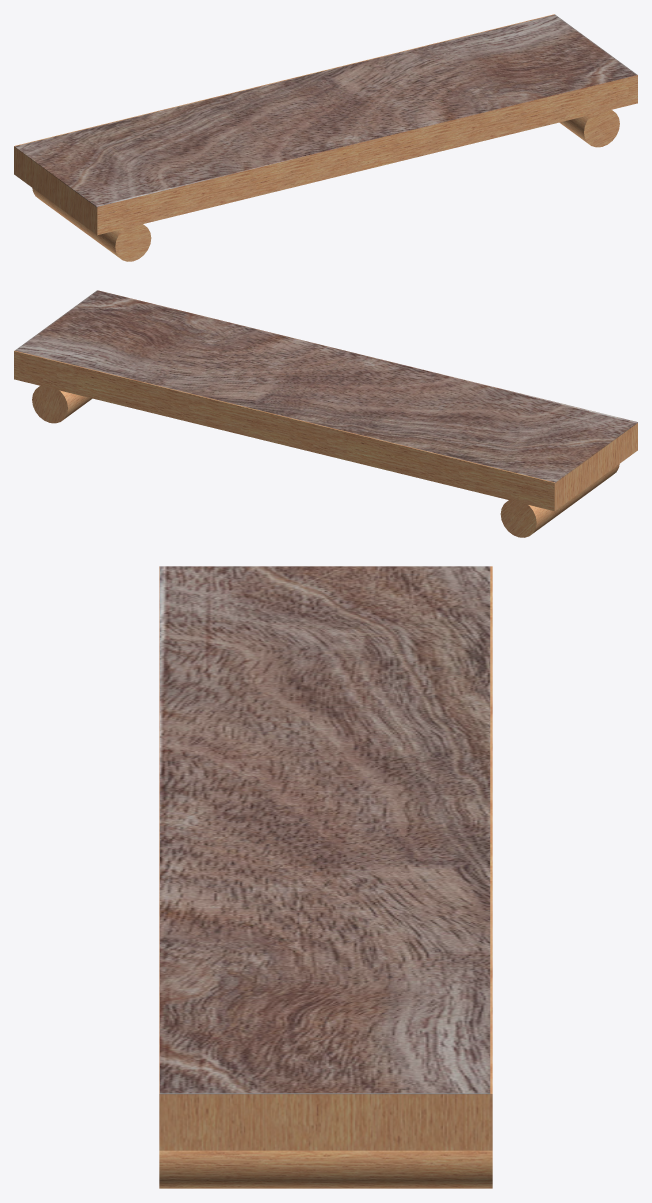
Rendered from Shelf 1.fbx.
3 renders of one model, top to bottom at view 1: azimuth 30°, elevation 25°; view 2: azimuth 150°, elevation 25°; view 3: azimuth 270°, elevation 25°, orthographic. The views are drawn at different scales.
Parts seen in each view (by area): view 1: shelf1; view 2: shelf1; view 3: shelf1.
Part boxes in pixels (left/top/right/bottom): shelf1: left=14, top=14, right=637, bottom=261; shelf1: left=14, top=290, right=637, bottom=537; shelf1: left=159, top=566, right=492, bottom=1188.
Bounding box in the file's own units: 1.5 × 0.1675 × 0.4.
